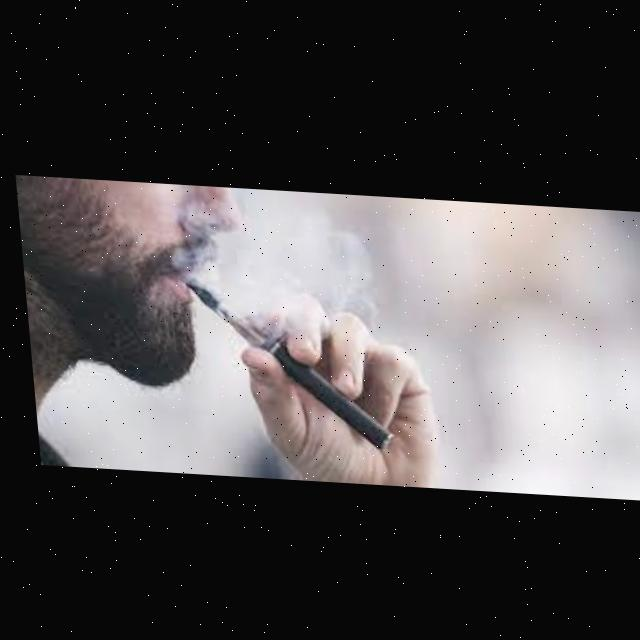vape: (180, 276, 387, 448)
